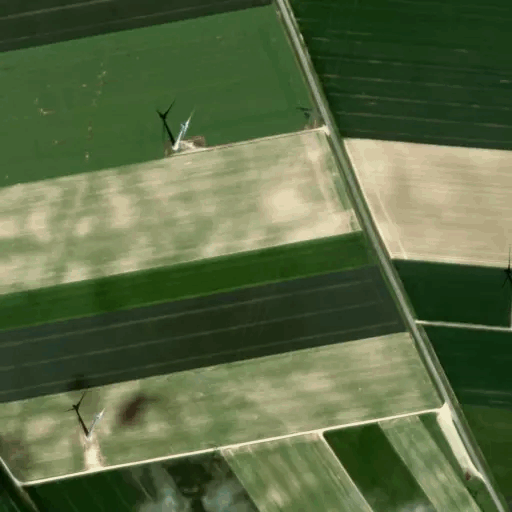wt: (60, 388, 114, 449), (146, 99, 199, 152)
